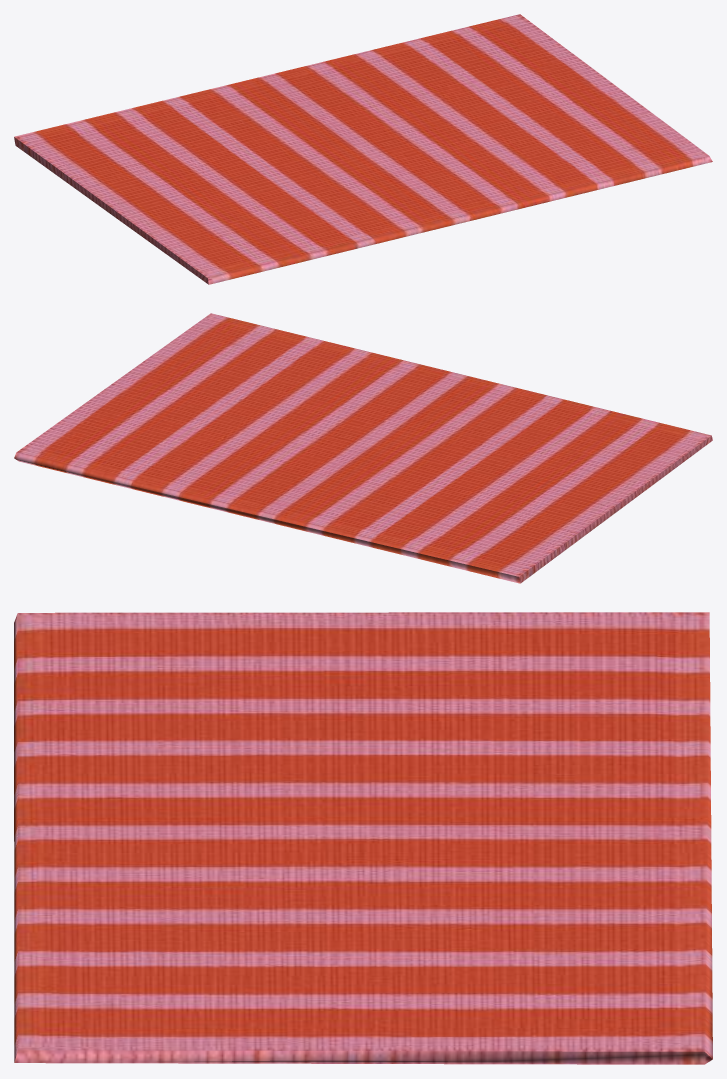
Rendered from 19 - VÄGSKYLT Door mat - pinkorange 60x90 cm.glb.
The picture shows the model from 3 angles, top to bottom: view 1: azimuth 30°, elevation 25°; view 2: azimuth 150°, elevation 25°; view 3: azimuth 270°, elevation 25°; orthographic projection. The views are drawn at different scales.
Parts seen in each view (by area): view 1: ASY_ART_80582532_S01_NV01; view 2: ASY_ART_80582532_S01_NV01; view 3: ASY_ART_80582532_S01_NV01.
Part boxes in pixels (left/top/right/bottom): ASY_ART_80582532_S01_NV01: left=14, top=14, right=712, bottom=284; ASY_ART_80582532_S01_NV01: left=14, top=313, right=712, bottom=583; ASY_ART_80582532_S01_NV01: left=14, top=612, right=712, bottom=1064.
Bounding box in the file's own units: 0.8999 × 0.0144 × 0.6025.
Materials: 1 (1 with a texture image).
